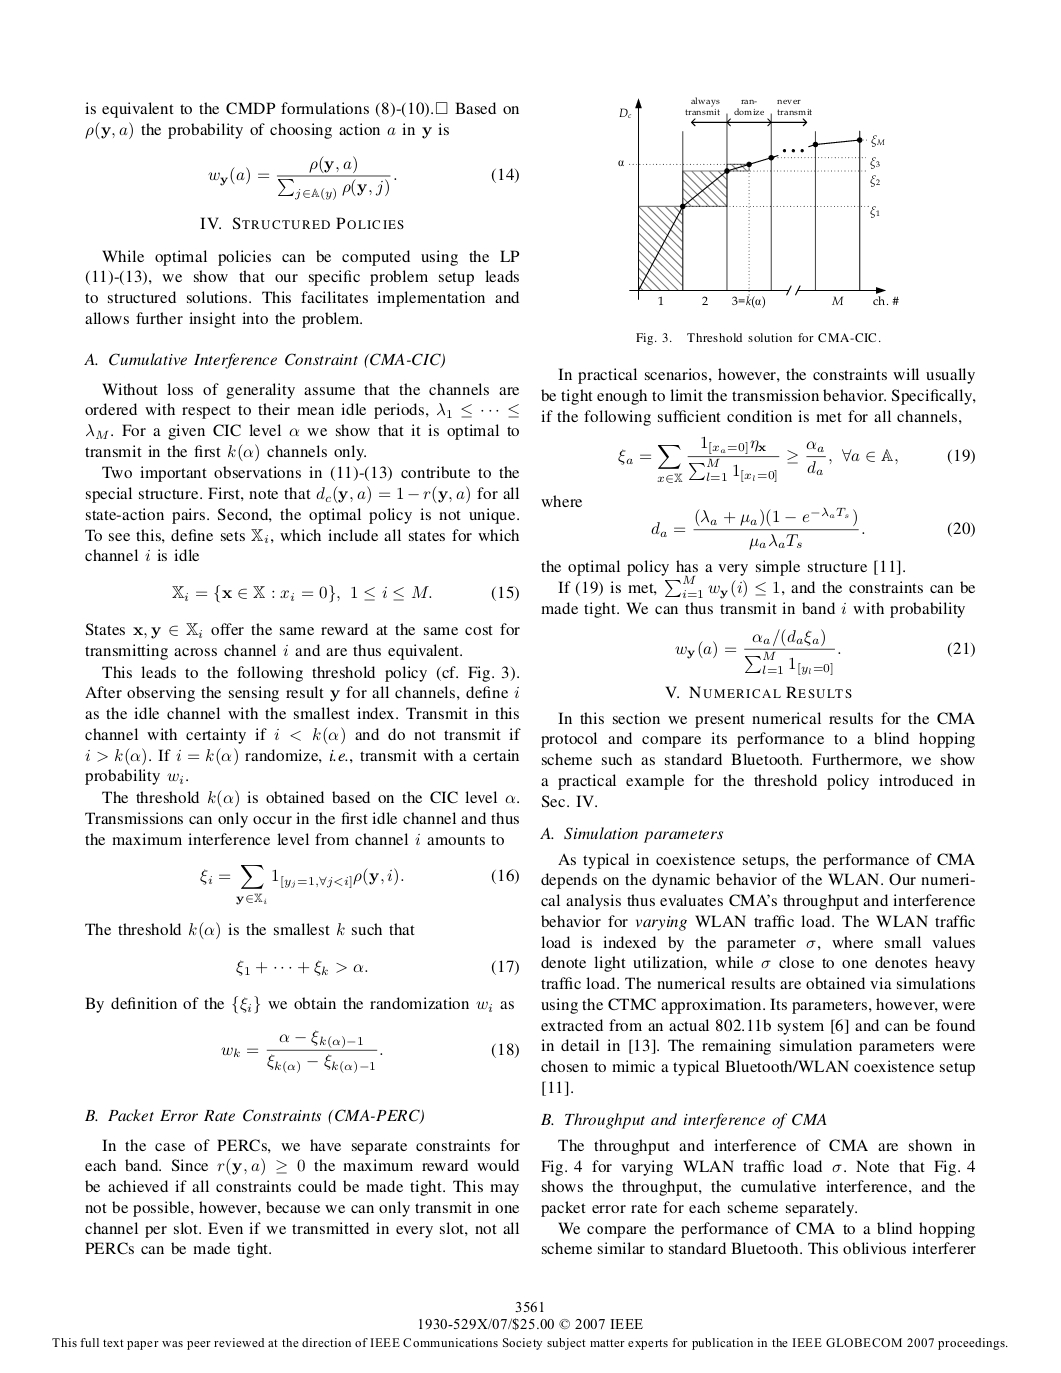figure: (619, 96, 898, 308)
formula: (619, 435, 974, 483), (675, 629, 974, 675), (208, 155, 518, 199), (651, 507, 974, 549), (221, 1029, 518, 1073), (199, 865, 518, 904), (172, 584, 518, 603), (236, 960, 518, 976)
